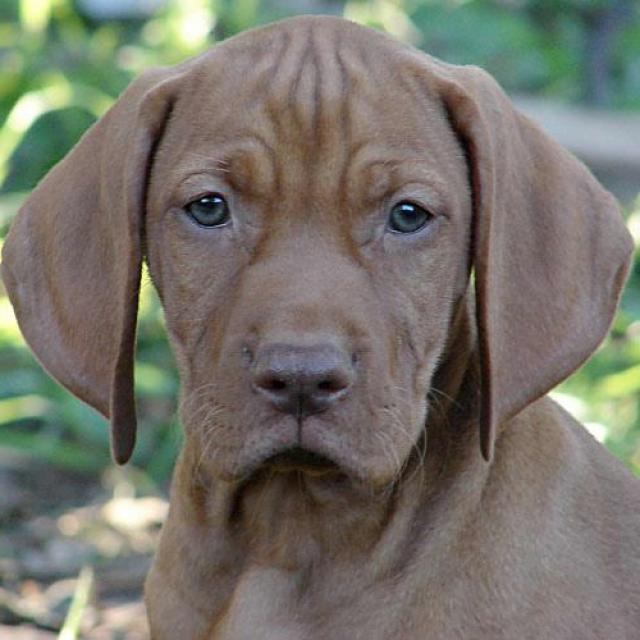vizsla: (3, 21, 640, 637)
